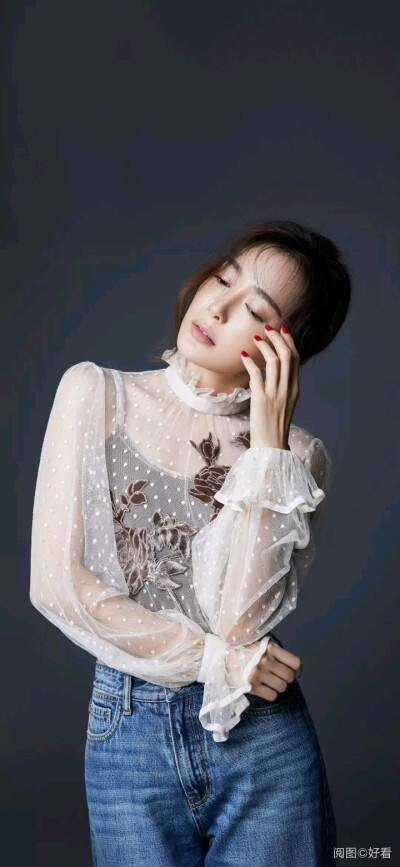person: (75, 221, 340, 721)
